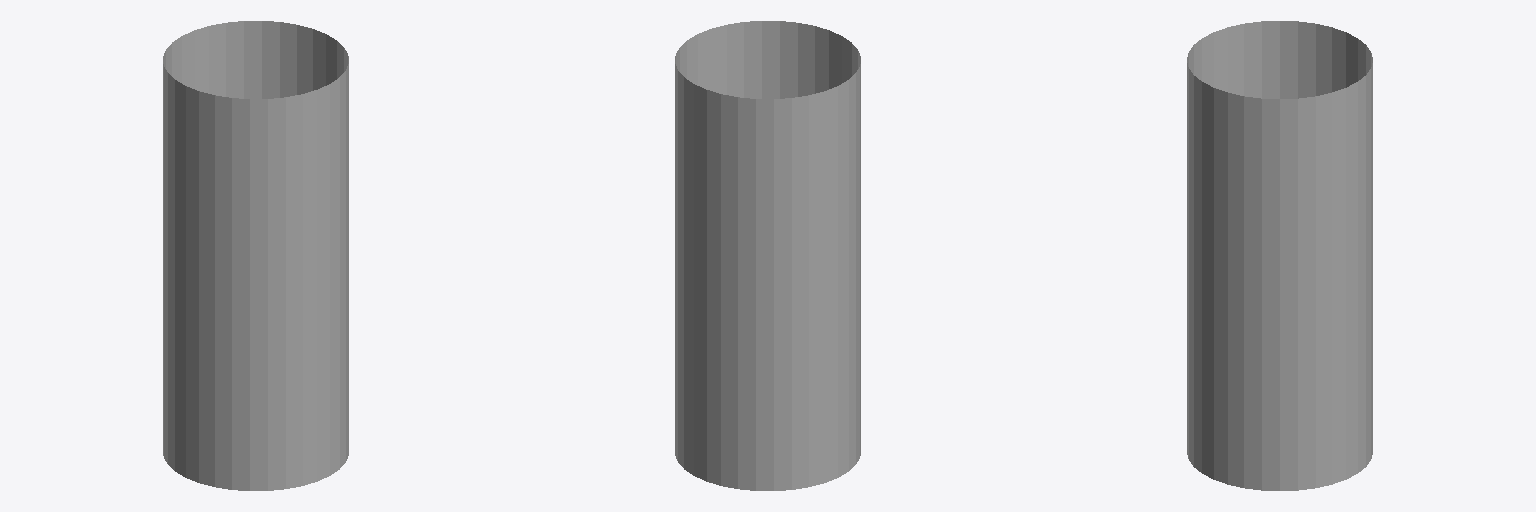
File: hollow_cylinder.obj
3 views of the same model, side by side, from view 1: azimuth 30°, elevation 25°; view 2: azimuth 150°, elevation 25°; view 3: azimuth 270°, elevation 25° (orthographic).
Parts seen in each view (by area): view 1: Cylinder.001; view 2: Cylinder.001; view 3: Cylinder.001.
Part boxes in pixels (left/top/right/bottom): Cylinder.001: left=163, top=21, right=348, bottom=490; Cylinder.001: left=675, top=21, right=860, bottom=490; Cylinder.001: left=1187, top=21, right=1372, bottom=490.
Size of the model in its own units: 0.6 by 1.39 by 0.6.